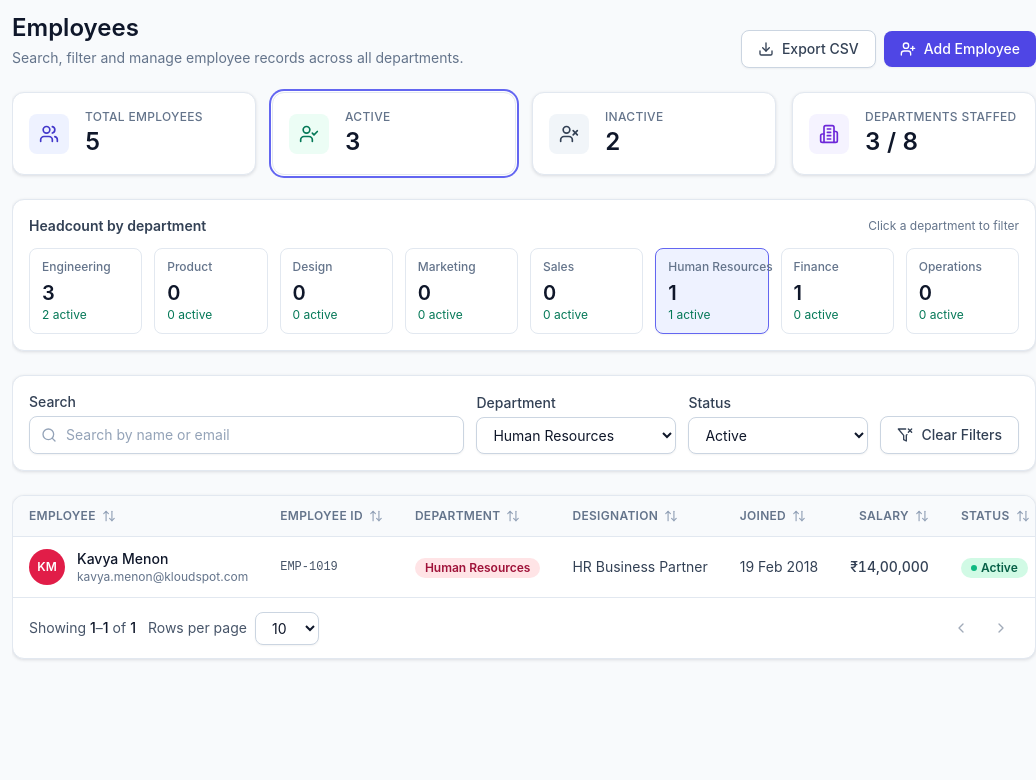
EmployeeListPage › exports CSV with the active filters
The width and height of the screenshot is (1036, 780).
Check: the link "Kavya Menon" is shown, box [77, 550, 168, 567]
Click the button "Export CSV" at point(808, 49), box [741, 30, 876, 68]
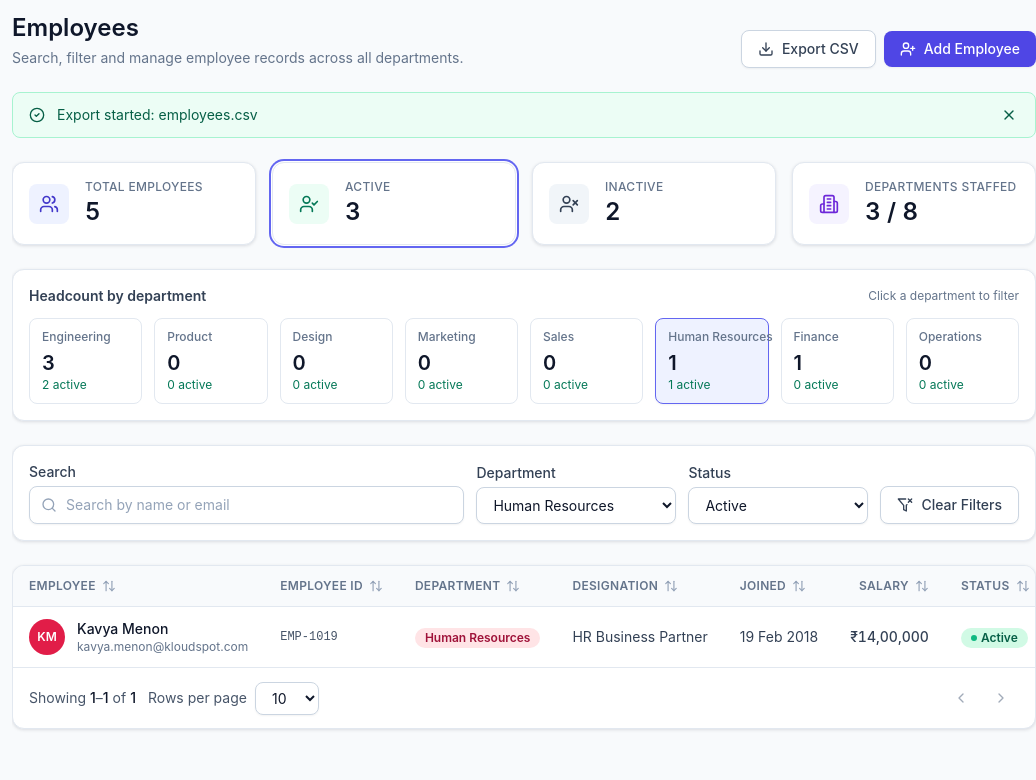
Check: the text "Export started: employees.csv" is shown, box [57, 106, 258, 123]
